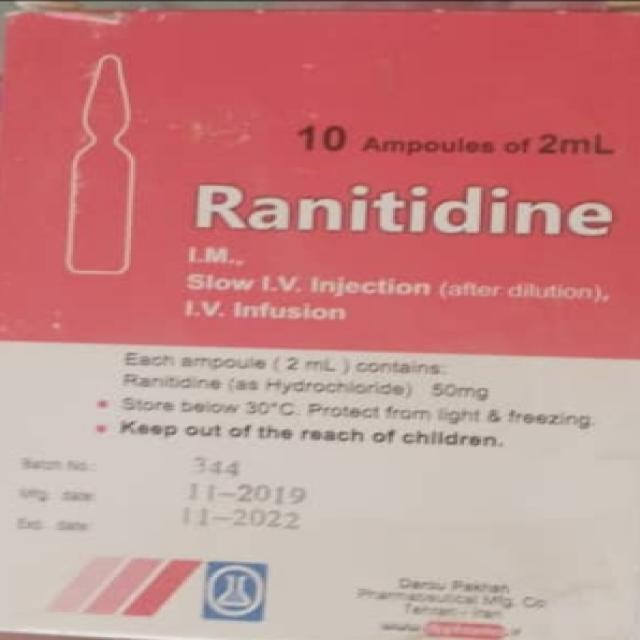drug-name: (191, 179, 618, 244)
